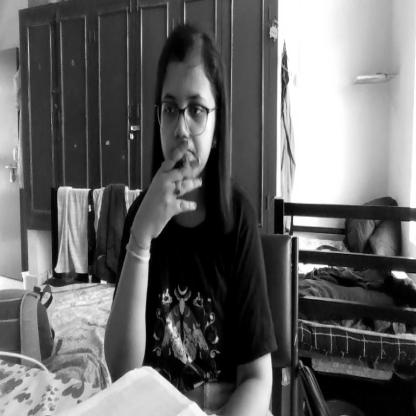Normal: (155, 29, 221, 194)
